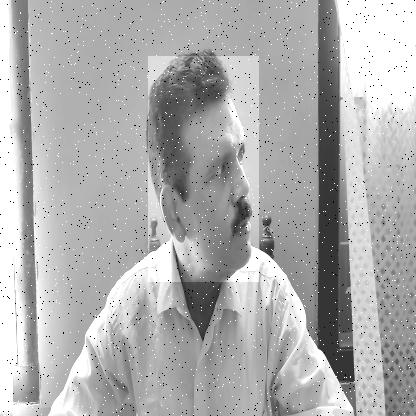Distracted: (148, 56, 259, 282)
